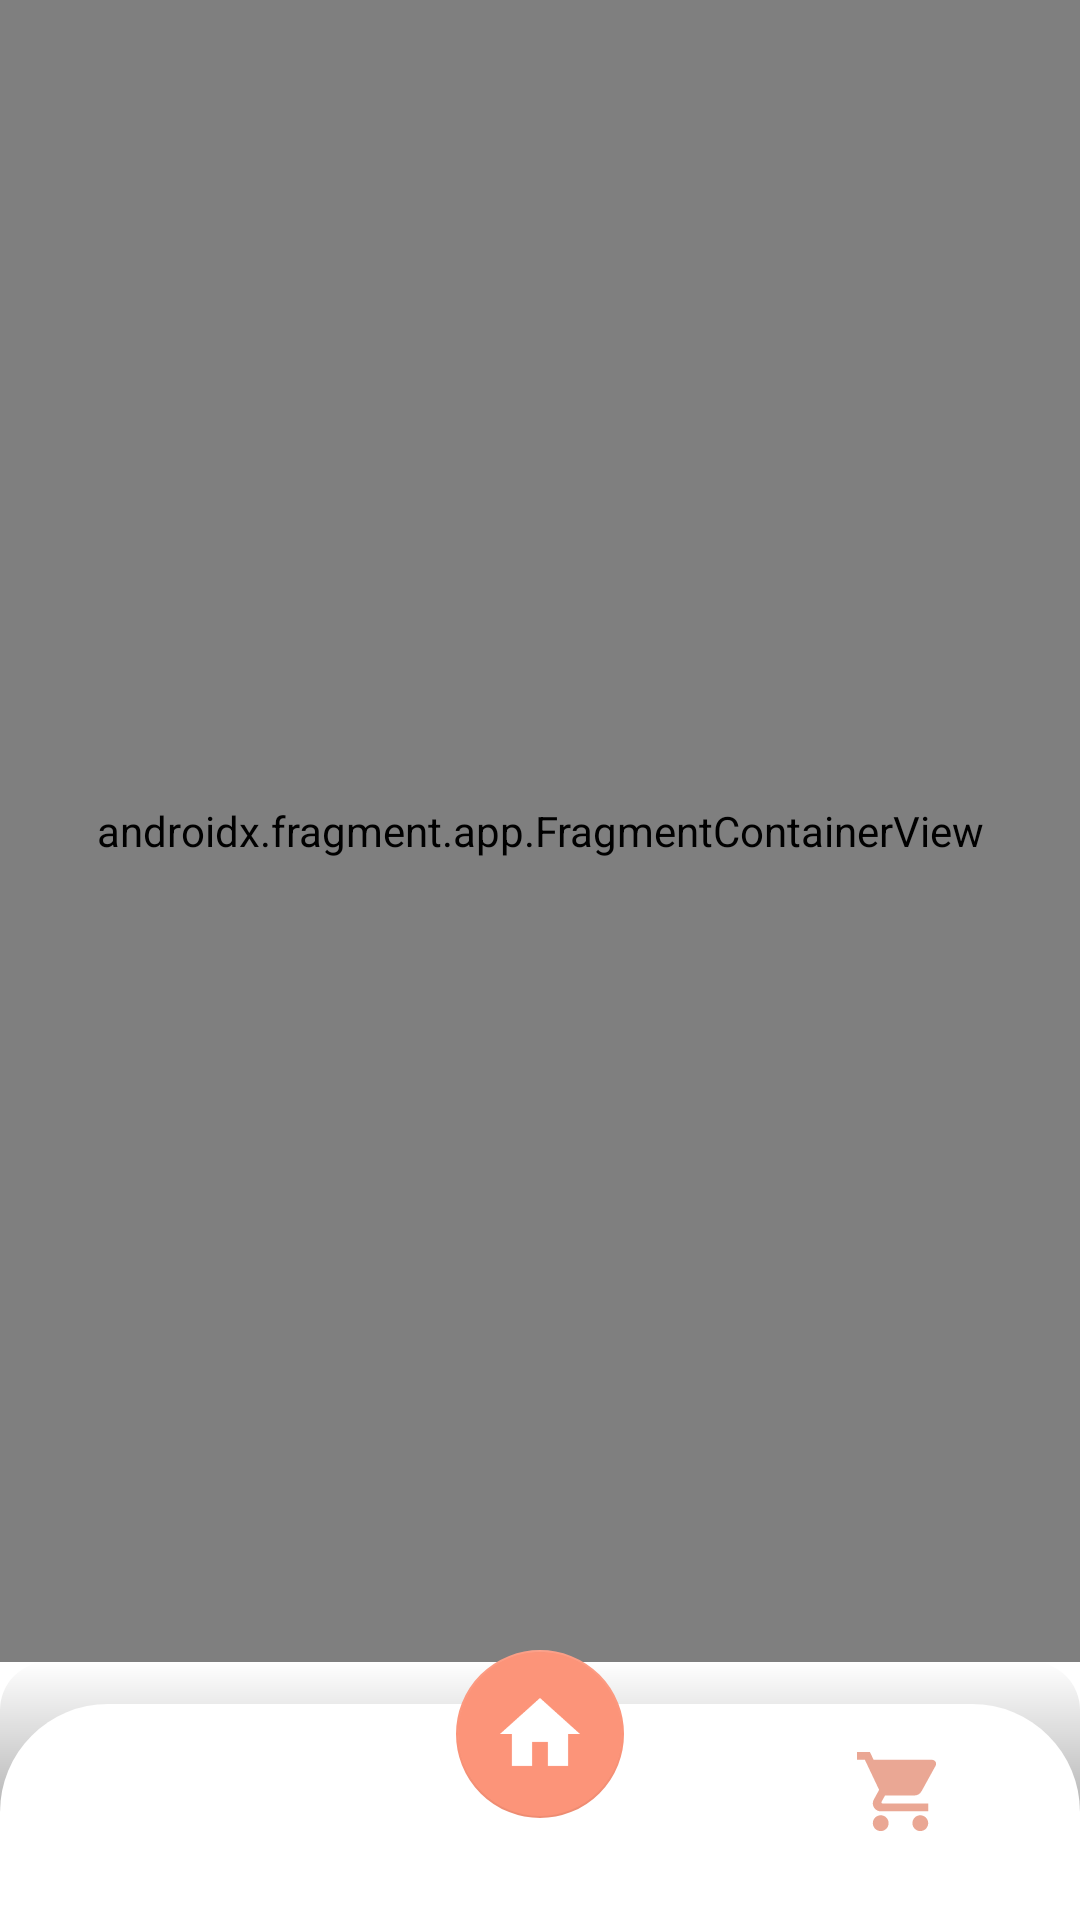

Named icons in this screenshot (1080px x 1920px) and their bounding boxes, [x1, y1, x2, y2]:
home: [456, 1650, 624, 1818]
